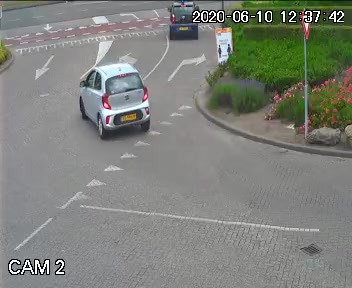car: (70, 60, 152, 140), (167, 0, 198, 46)
